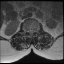CCS_normal: (30, 27, 32, 36)
LFS_normal: (35, 27, 37, 34)
LLS_normal: (32, 27, 35, 35)
RFS_normal: (26, 27, 28, 34)
RLS_normal: (28, 27, 30, 35)
